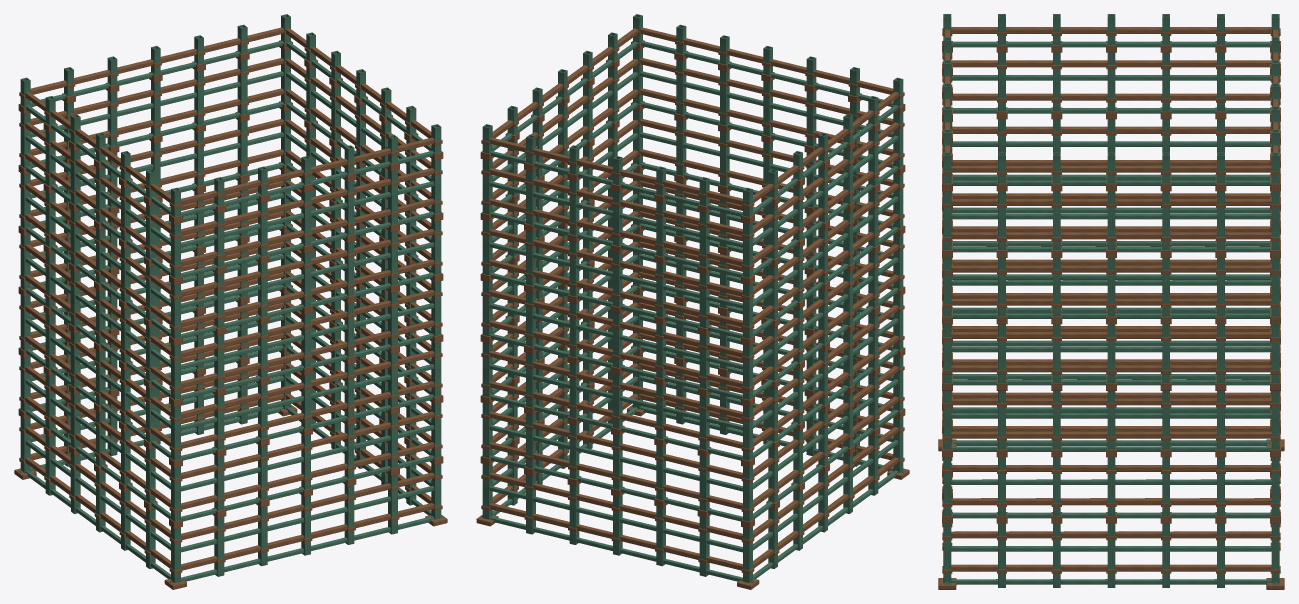
The picture shows the model from 3 angles, left to right: view 1: azimuth 30°, elevation 25°; view 2: azimuth 150°, elevation 25°; view 3: azimuth 270°, elevation 25°; orthographic projection. The views are drawn at different scales.
Parts seen in each view (by area): view 1: no part large enough to name; view 2: no part large enough to name; view 3: Tier 0 side 1 post 3, Tier 0 side 1 post 0, Tier 0 side 2 post 0, Tier 5 side 1 post 0, Tier 5 side 2 post 0, Tier 5 side 1 post 3, Tier 5 side 3 post 3, Tier 2 side 1 post 0, Tier 2 side 2 post 0, Tier 1 side 1 post 0, Tier 1 side 2 post 0, Tier 2 side 1 post 3 (+11 smaller).
Boxes of the visible parts, x1=… form: Tier 0 side 1 post 3: x1=1107, y1=523, x2=1115, y2=587; Tier 0 side 1 post 0: x1=943, y1=523, x2=951, y2=583; Tier 0 side 2 post 0: x1=1271, y1=523, x2=1279, y2=583; Tier 5 side 1 post 0: x1=943, y1=191, x2=951, y2=250; Tier 5 side 2 post 0: x1=1271, y1=191, x2=1279, y2=250; Tier 5 side 1 post 3: x1=1107, y1=191, x2=1115, y2=250; Tier 5 side 3 post 3: x1=1107, y1=52, x2=1115, y2=111; Tier 2 side 1 post 0: x1=943, y1=391, x2=951, y2=449; Tier 2 side 2 post 0: x1=1271, y1=391, x2=1279, y2=449; Tier 1 side 1 post 0: x1=943, y1=457, x2=951, y2=516; Tier 1 side 2 post 0: x1=1271, y1=457, x2=1279, y2=516; Tier 2 side 1 post 3: x1=1107, y1=391, x2=1115, y2=449.
Size of the model in its own units: 2.85 by 3.92 by 2.85.
Materials: 2 (2 with a texture image).
